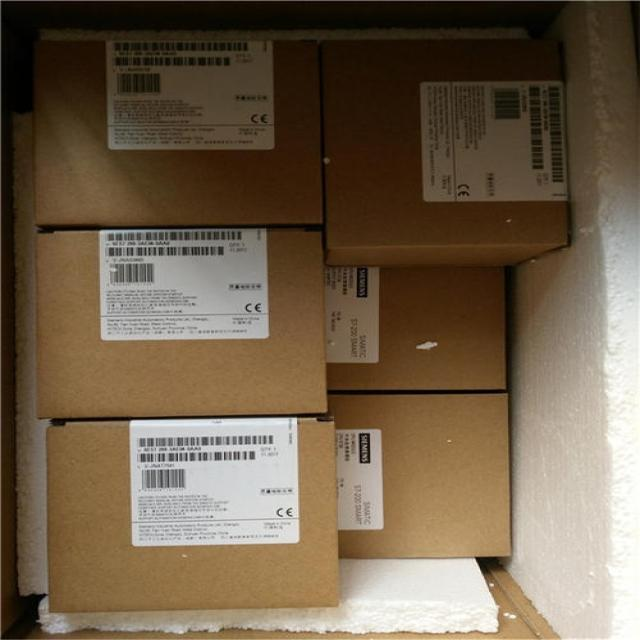box: (323, 37, 570, 268), (47, 416, 339, 611), (35, 229, 329, 420), (36, 40, 324, 234), (314, 393, 512, 558), (325, 265, 507, 391)
